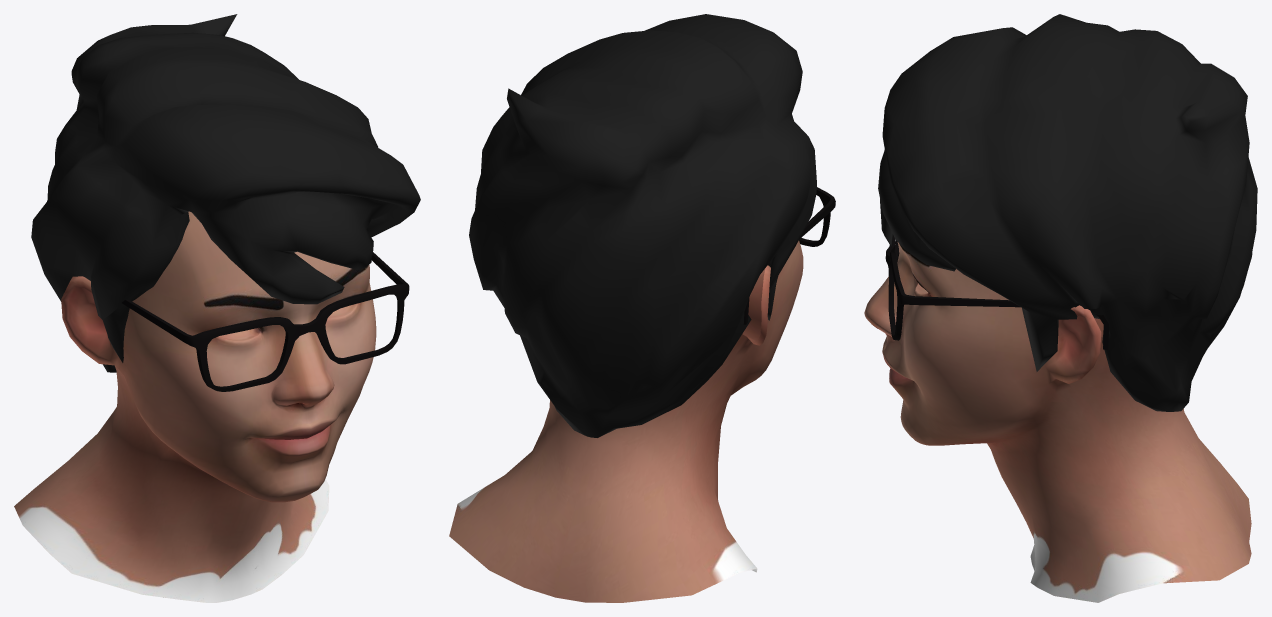
File: estudiante1_cabeza.glb
3 views of the same model, side by side, from view 1: azimuth 30°, elevation 25°; view 2: azimuth 150°, elevation 25°; view 3: azimuth 270°, elevation 25° (orthographic). The views are drawn at different scales.
Parts seen in each view (by area): view 1: Object_17; view 2: Object_17; view 3: Object_17.
Part boxes in pixels (left/top/right/bottom): Object_17: left=14, top=14, right=420, bottom=602; Object_17: left=449, top=14, right=835, bottom=602; Object_17: left=864, top=14, right=1257, bottom=602.
Bounding box in the file's own units: 0.2005 × 0.3418 × 0.2301.
3 materials, 2 textured.
